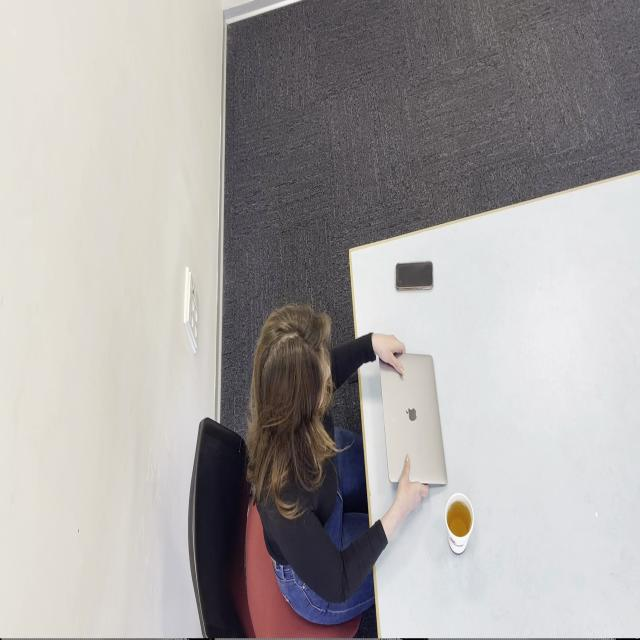bag: (395, 260, 433, 291)
ipad: (245, 303, 429, 626)
laptop: (378, 352, 448, 487)
